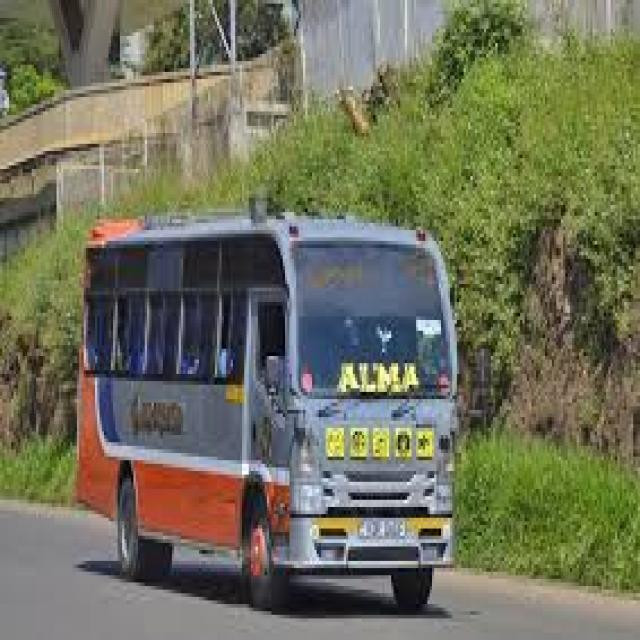bus: (49, 159, 494, 630)
